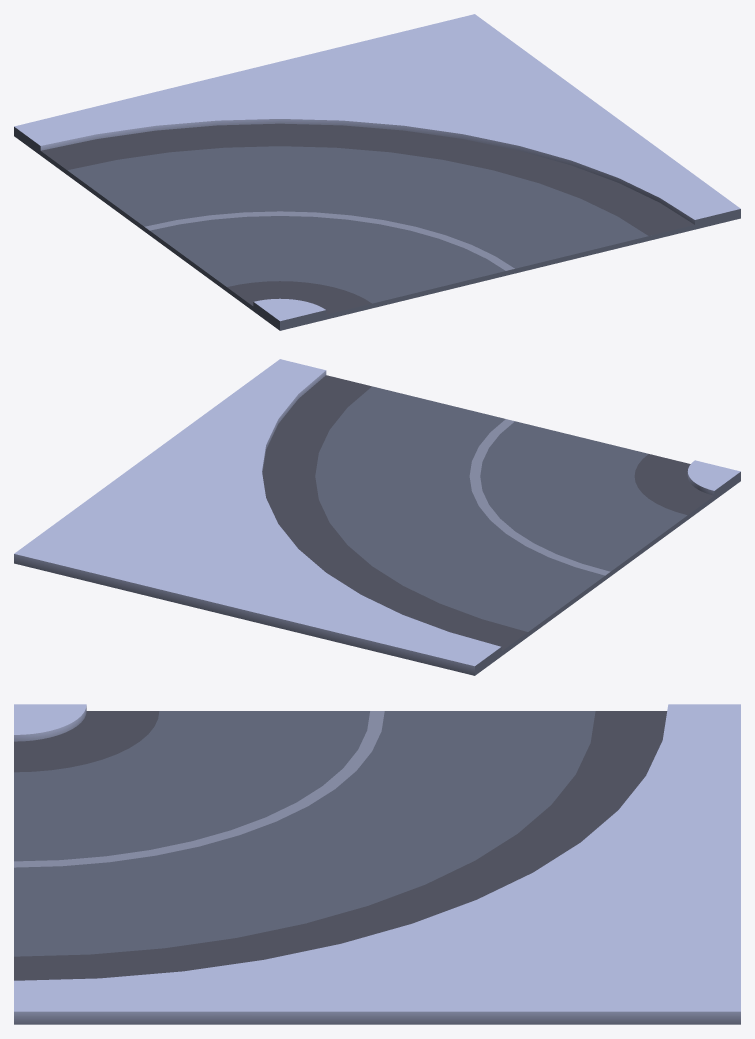
File: road-bend-sidewalk.glb
3 views of the same model, one above another, from view 1: azimuth 30°, elevation 25°; view 2: azimuth 150°, elevation 25°; view 3: azimuth 270°, elevation 25° (orthographic). The views are drawn at different scales.
Parts seen in each view (by area): view 1: road-bend-sidewalk; view 2: road-bend-sidewalk; view 3: road-bend-sidewalk.
Part boxes in pixels (<box>): road-bend-sidewalk: <box>14,14,740,330</box>; road-bend-sidewalk: <box>14,359,740,675</box>; road-bend-sidewalk: <box>14,704,740,1024</box>.
Size of the model in its own units: 1 by 0.02 by 1.
1 material, 1 textured.
